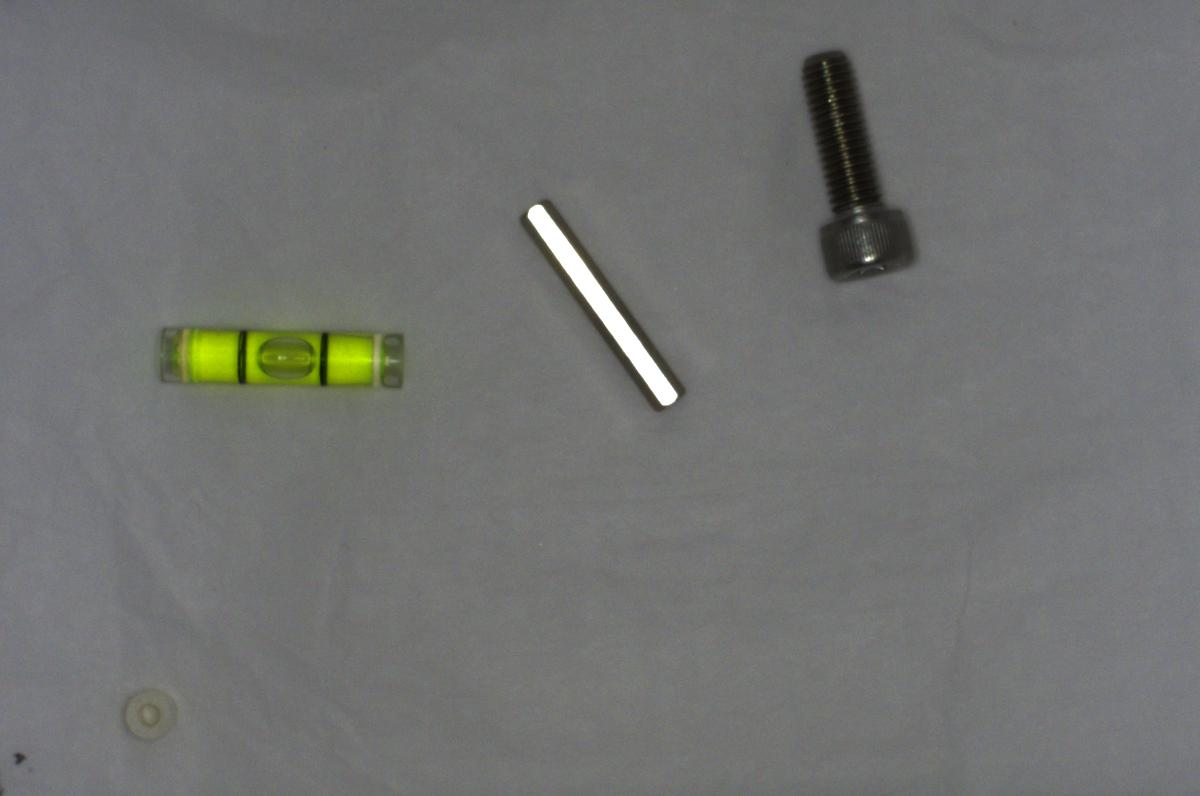Double hexagonal column: (507, 190, 688, 422)
Hexagon screw: (797, 42, 919, 283)
Horizontal bubble: (148, 312, 408, 399)
Plastic cushion pillar: (115, 685, 182, 742)
